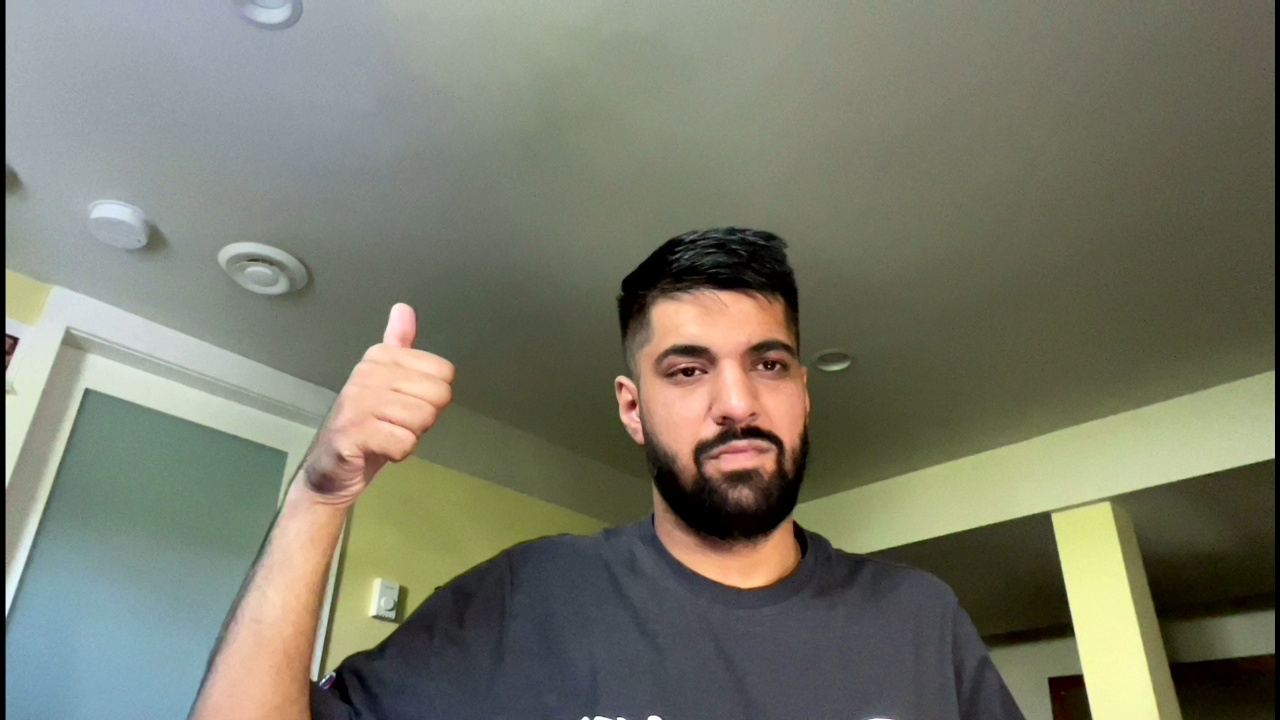Yes: (310, 300, 469, 493)
